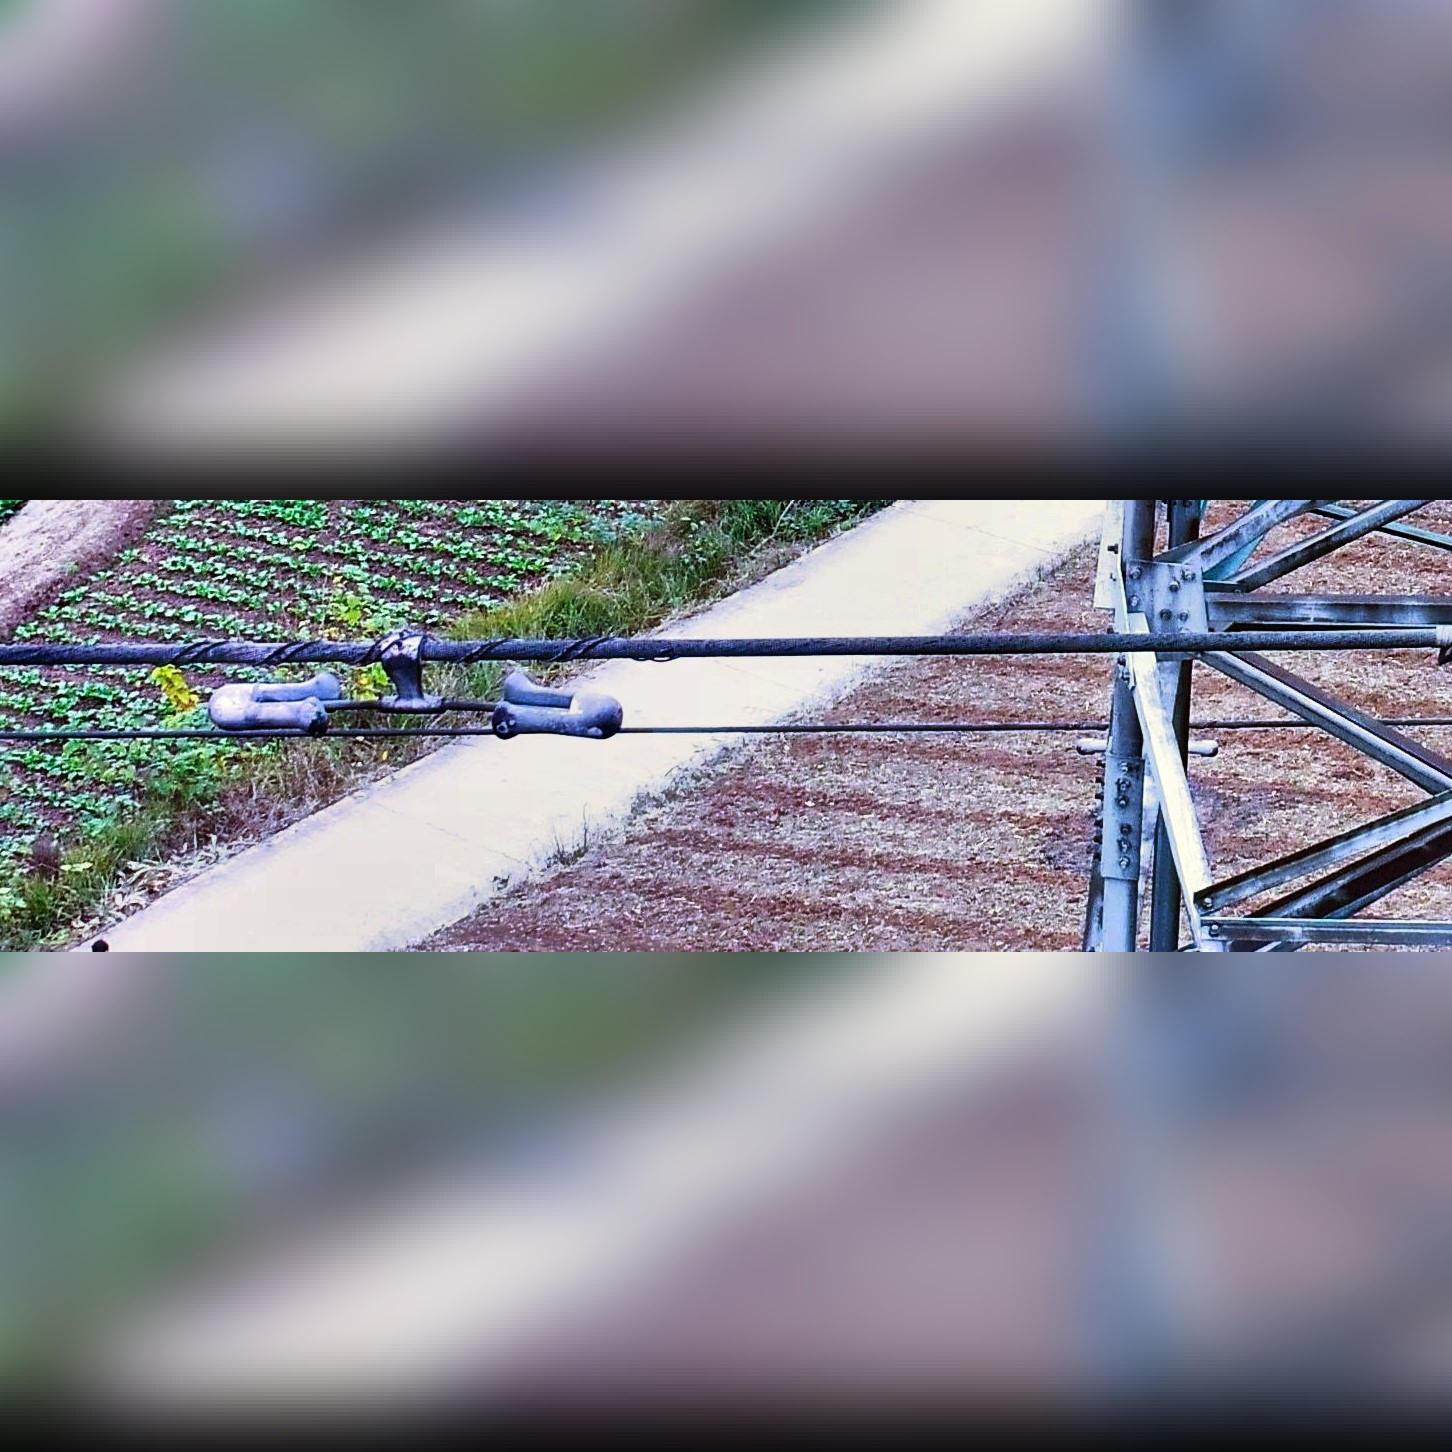Shockproof hammer: (191, 612, 637, 753)
